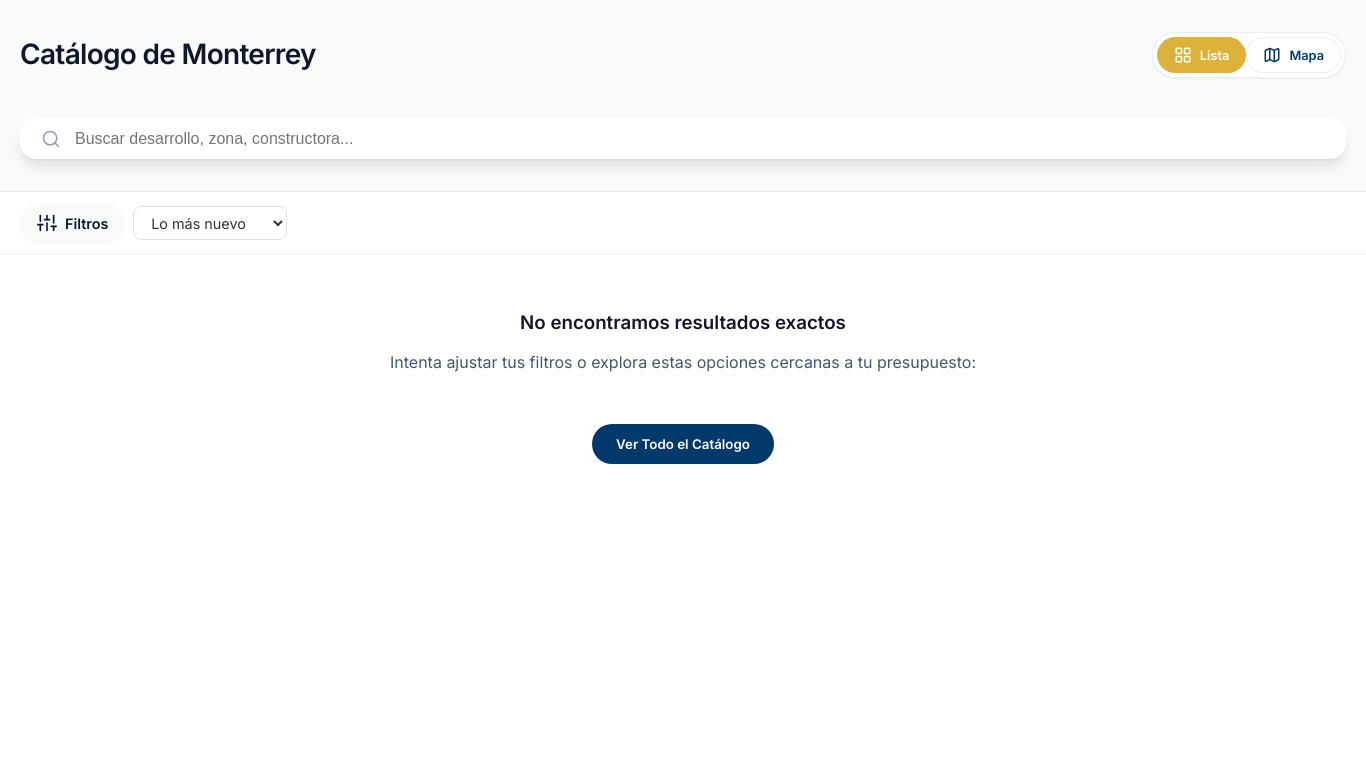
Test: Catalog Filter Integration › debe abrir el modal de filtros al hacer click en el botón "Filtros"
Click it
Step 1. Click the button "Filtros" → (73, 223), box [20,204,125,242]
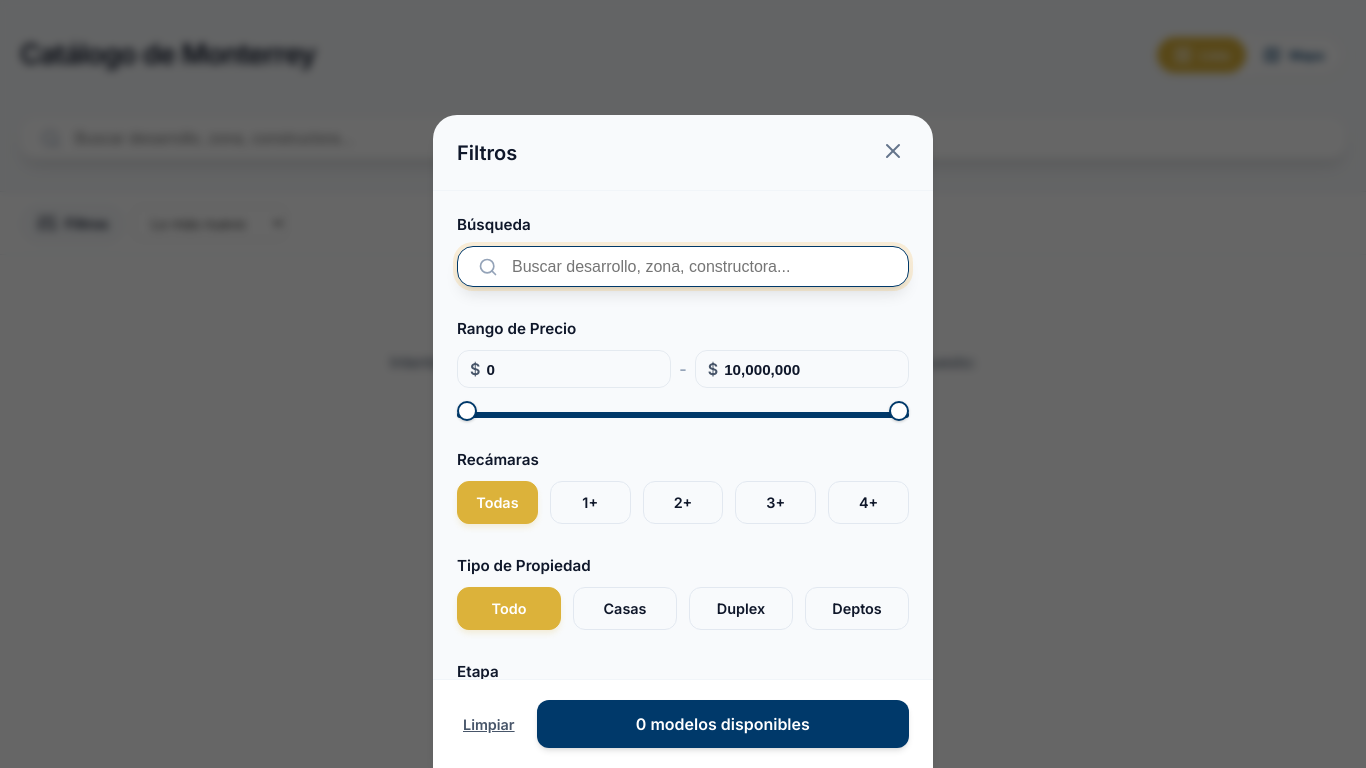
Check: the text "Rango de Precio" is shown, box [457,319,576,338]
